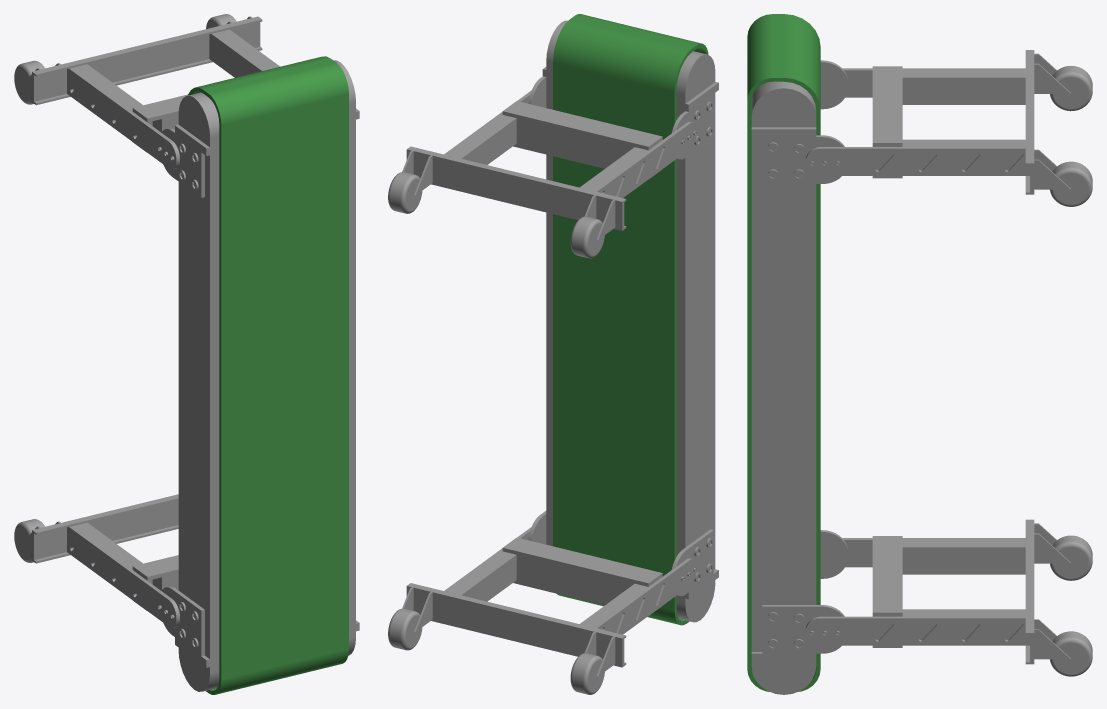
The model's file is conveyor_belt_project.obj.
3 renders of one model, left to right at view 1: azimuth 30°, elevation 25°; view 2: azimuth 150°, elevation 25°; view 3: azimuth 270°, elevation 25°, orthographic. The views are drawn at different scales.
Visible parts, largest first — view 1: Body11, Body1, Body7, Body6, Body46, Body49, Body5, Body59, Body24, Body64, Body39; view 2: Body11, Body1, Body6, Body46, Body49, Body7, Body51, Body5, Body47, Body39, Body64, Body8 (+2 smaller); view 3: Body1, Body11, Body6, Body46, Body44, Body4, Body58, Body23, Body8, Body64, Body47, Body39 (+12 smaller).
Part boxes in pixels (x1=…): Body11: x1=188, y1=56, x2=348, y2=694; Body1: x1=178, y1=60, x2=355, y2=691; Body7: x1=32, y1=16, x2=262, y2=105; Body6: x1=67, y1=64, x2=187, y2=169; Body46: x1=67, y1=522, x2=179, y2=627; Body49: x1=32, y1=494, x2=178, y2=563; Body5: x1=209, y1=30, x2=276, y2=77; Body59: x1=161, y1=586, x2=204, y2=656; Body24: x1=161, y1=128, x2=204, y2=197; Body64: x1=14, y1=519, x2=44, y2=562; Body39: x1=14, y1=60, x2=44, y2=104; Body11: x1=553, y1=14, x2=708, y2=625; Body1: x1=546, y1=20, x2=715, y2=622; Body6: x1=502, y1=101, x2=697, y2=197; Body46: x1=502, y1=537, x2=697, y2=634; Body49: x1=406, y1=583, x2=626, y2=667; Body7: x1=406, y1=146, x2=626, y2=230; Body51: x1=447, y1=551, x2=516, y2=601; Body5: x1=448, y1=115, x2=516, y2=164; Body47: x1=388, y1=608, x2=422, y2=650; Body39: x1=570, y1=216, x2=604, y2=258; Body64: x1=570, y1=653, x2=604, y2=694; Body8: x1=388, y1=172, x2=422, y2=213; Body1: x1=751, y1=81, x2=816, y2=694; Body11: x1=747, y1=14, x2=820, y2=691; Body6: x1=842, y1=66, x2=1025, y2=178; Body46: x1=842, y1=536, x2=1025, y2=647; Body44: x1=805, y1=616, x2=1029, y2=645; Body4: x1=805, y1=147, x2=1029, y2=175; Body58: x1=762, y1=605, x2=844, y2=653; Body23: x1=762, y1=135, x2=844, y2=183; Body8: x1=1050, y1=161, x2=1092, y2=206; Body64: x1=1050, y1=535, x2=1092, y2=580; Body47: x1=1050, y1=631, x2=1092, y2=676; Body39: x1=1050, y1=66, x2=1092, y2=111.
Size of the model in its own units: 62 by 157 by 80.
